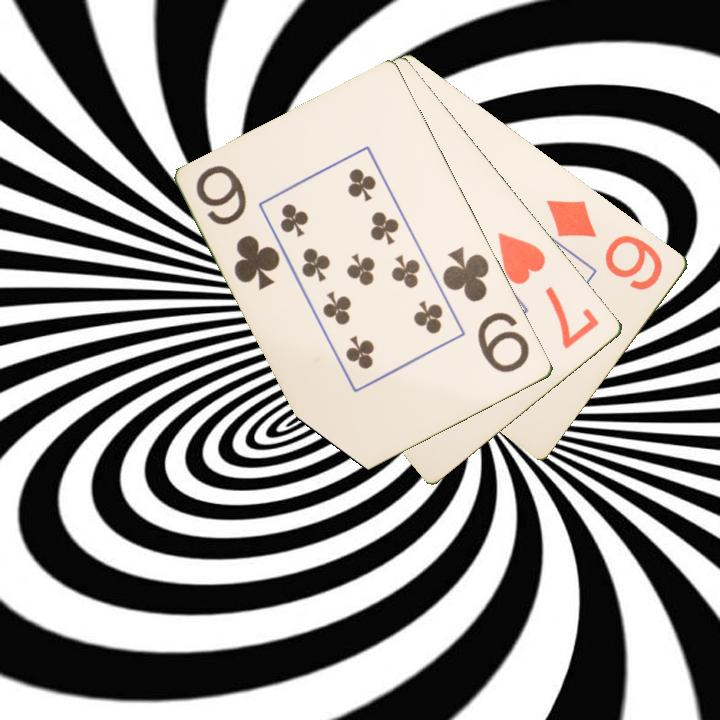6d: (543, 195, 667, 294)
7h: (494, 228, 603, 352)
9c: (439, 243, 533, 376), (192, 161, 284, 293)
